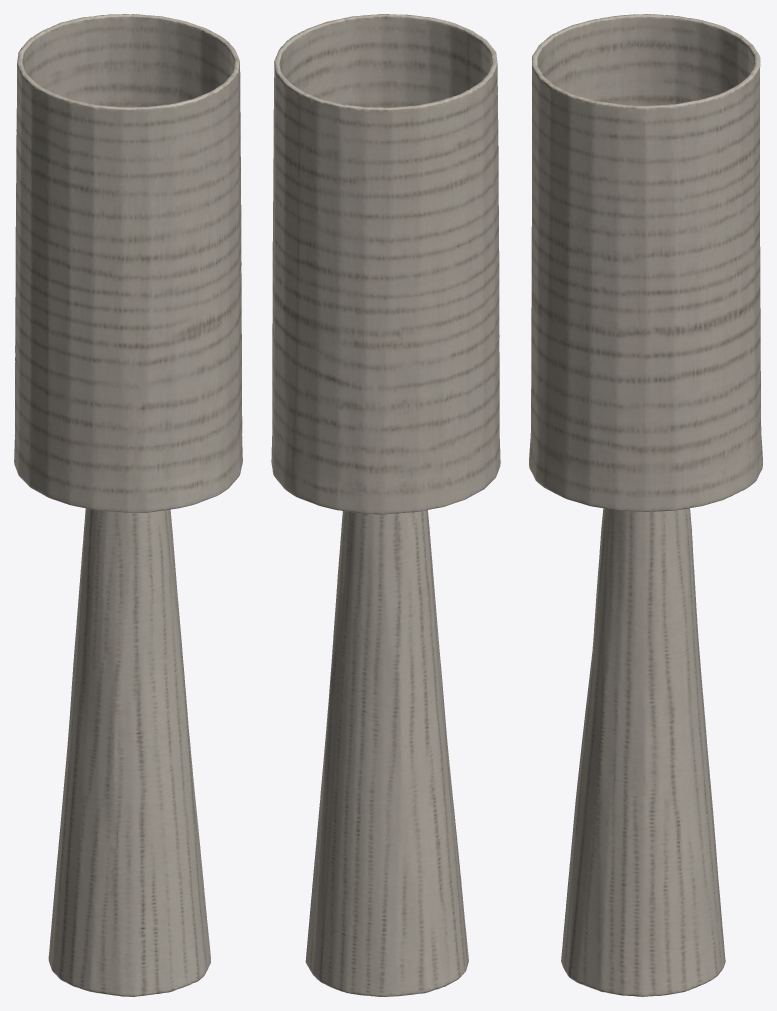
The model's file is Lamp [uEIuaC].glb.
3 views of the same model, side by side, from view 1: azimuth 30°, elevation 25°; view 2: azimuth 150°, elevation 25°; view 3: azimuth 270°, elevation 25° (orthographic).
Parts seen in each view (by area): view 1: world; view 2: world; view 3: world.
Part boxes in pixels (<box>): world: <box>14,14,242,996</box>; world: <box>271,14,500,996</box>; world: <box>529,14,762,996</box>.
Bounding box in the file's own units: 0.2287 × 1 × 0.2349.
Materials: 1 (1 with a texture image).
